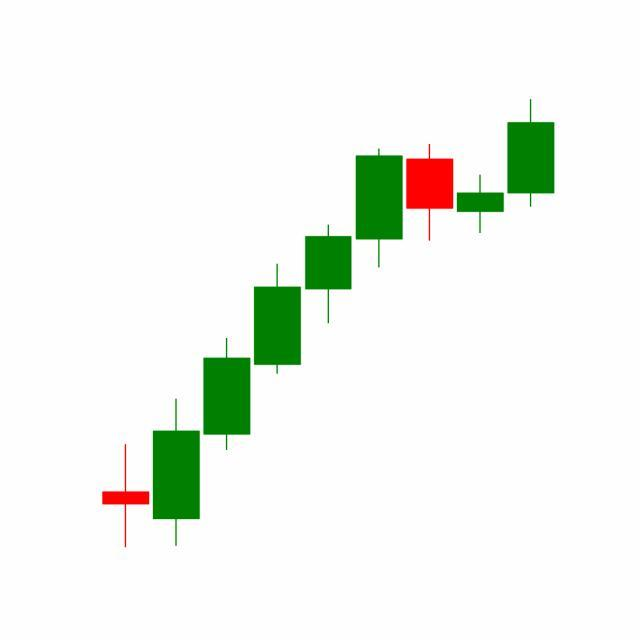Hikkake Pattern: (302, 99, 555, 327)
